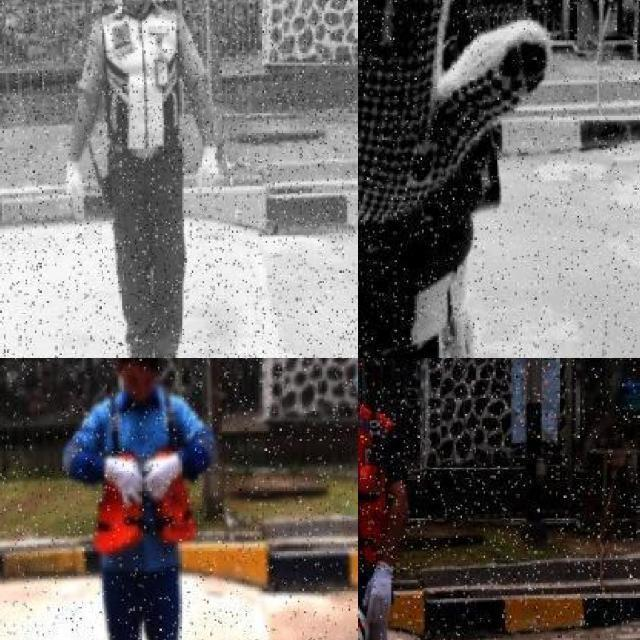apron: (358, 0, 555, 232), (100, 451, 151, 514), (432, 295, 478, 358), (138, 448, 186, 508), (362, 560, 393, 628), (194, 144, 223, 188), (62, 159, 88, 207)
